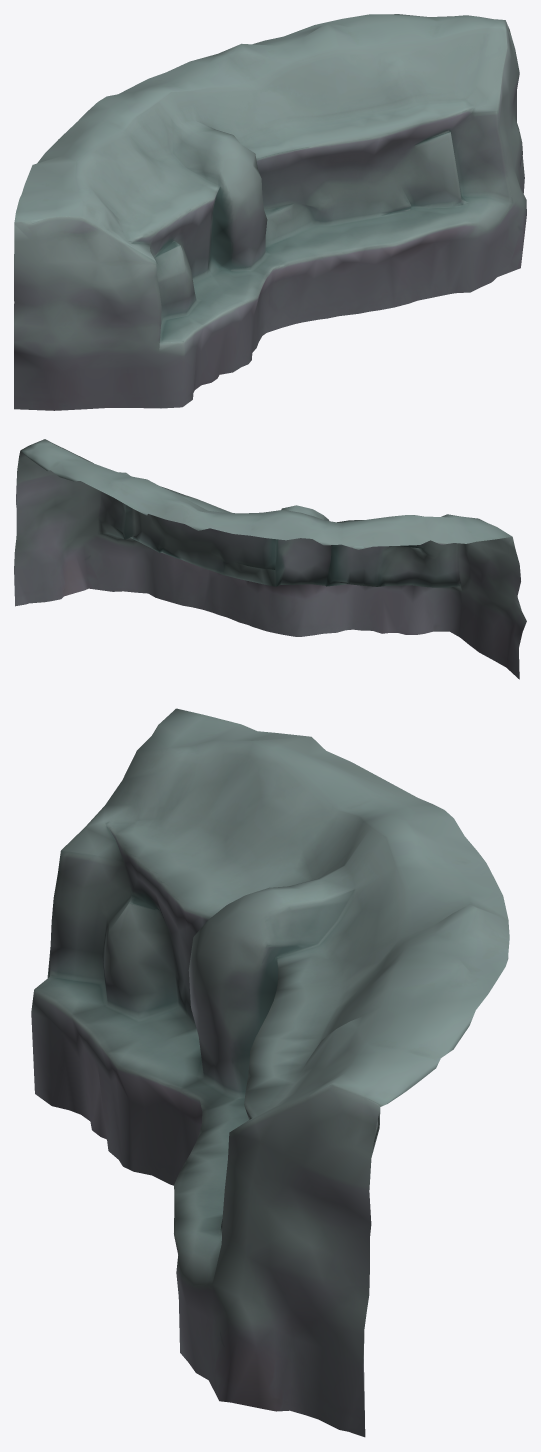
The model's file is SM_Rock_Wall_02.fbx.
3 renders of one model, top to bottom at view 1: azimuth 30°, elevation 25°; view 2: azimuth 150°, elevation 25°; view 3: azimuth 270°, elevation 25°, orthographic. The views are drawn at different scales.
Visible parts, largest first — view 1: pCube108; view 2: pCube108; view 3: pCube108.
Part boxes in pixels (x1,y1,x2,y2): pCube108: [14, 14, 526, 410]; pCube108: [14, 439, 526, 679]; pCube108: [31, 708, 509, 1437].
Bounding box in the file's own units: 2397 × 860 × 1081.
